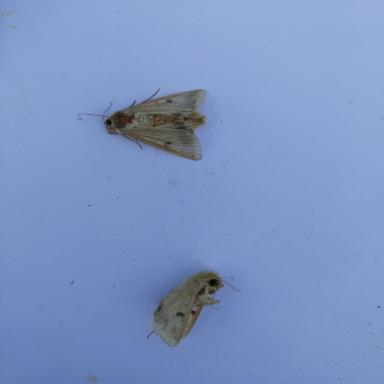abw: (74, 83, 216, 166), (140, 267, 248, 352)
